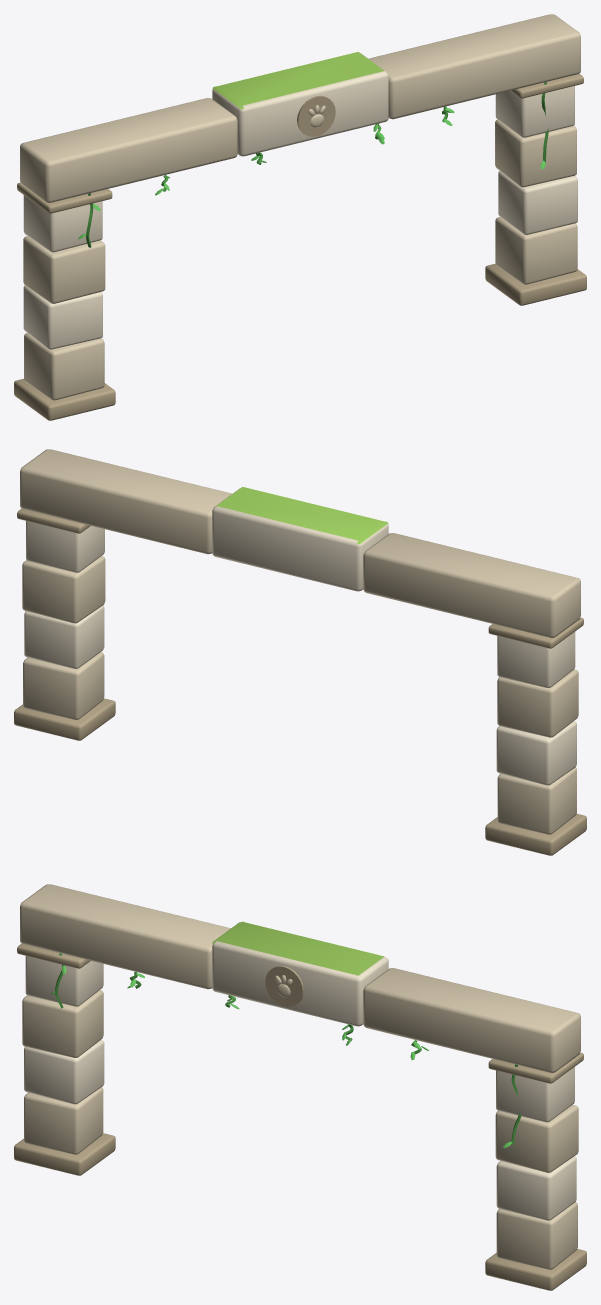
Rendered from stone_arch.glb.
The picture shows the model from 3 angles, top to bottom: view 1: azimuth 30°, elevation 25°; view 2: azimuth 150°, elevation 25°; view 3: azimuth 330°, elevation 25°; orthographic projection.
Visible parts, largest first — view 1: stone_arch; view 2: stone_arch; view 3: stone_arch.
Boxes of the visible parts, left/top/right/bottom form: stone_arch: left=14, top=14, right=586, bottom=420; stone_arch: left=14, top=449, right=586, bottom=855; stone_arch: left=14, top=884, right=586, bottom=1290.
Size of the model in its own units: 21.5 by 10.09 by 2.65.
